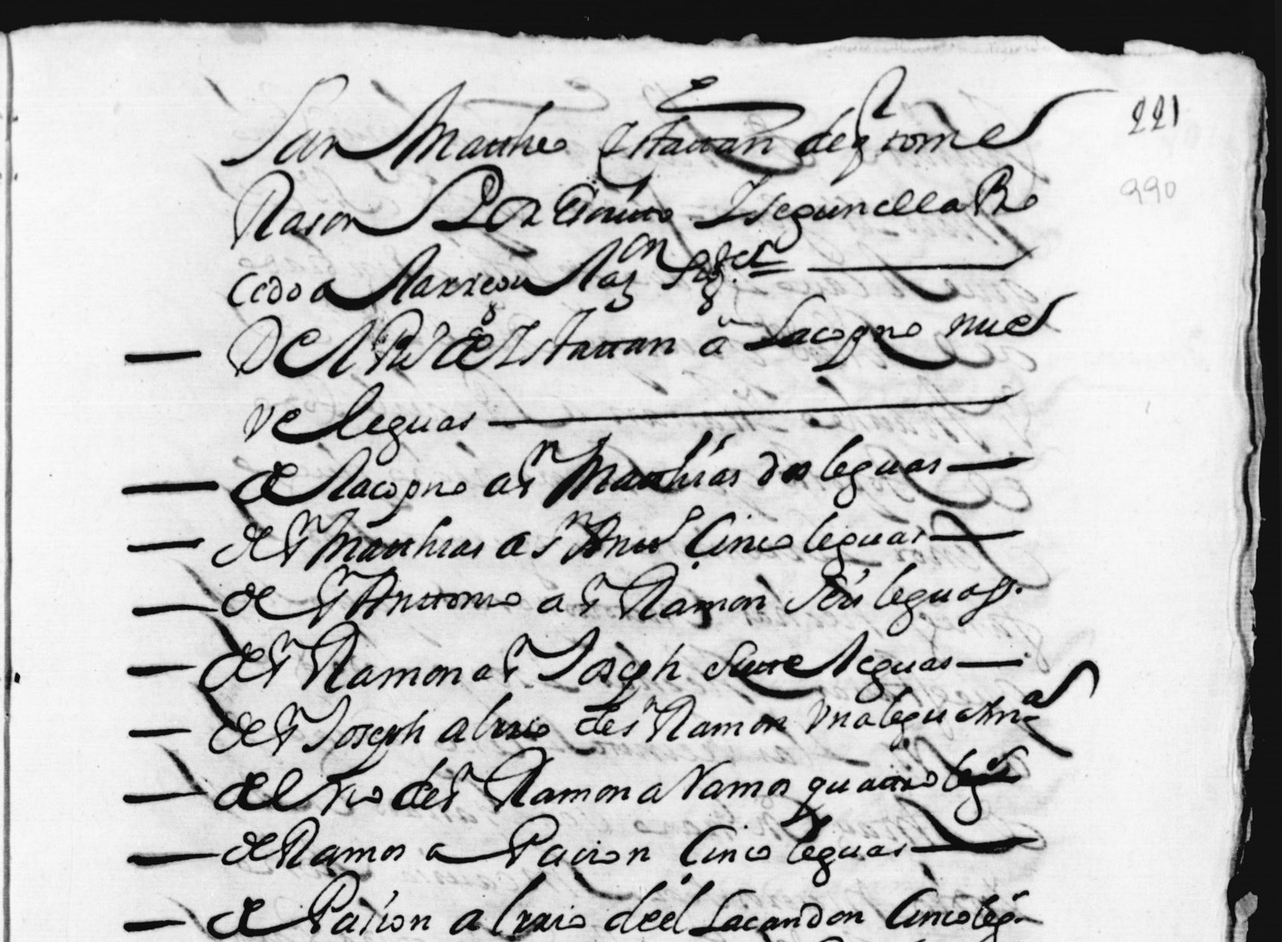lacandon: (688, 889, 864, 937)
